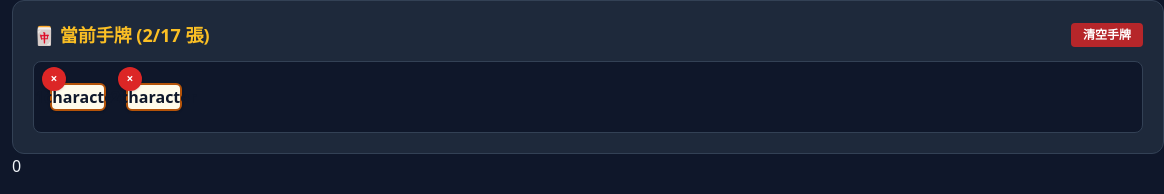
Test: HandRack UI › removing a selected tile clears selection
The width and height of the screenshot is (1164, 194).
Click the button titled "選取".
click(78, 97)  # box [50,83,106,111]
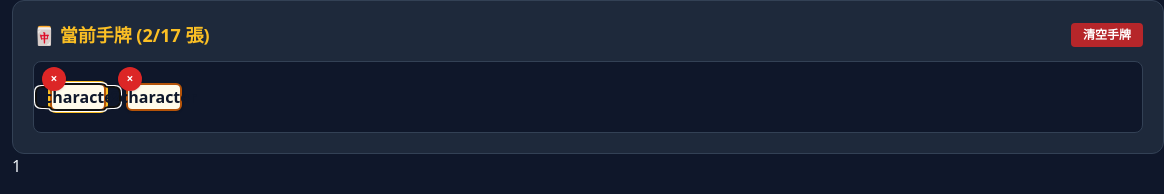
Check: the text with test id "selection-count" reads "1", box [12,155,21,177]
Click the 1st button "×".
click(54, 79)  # box [42,67,66,91]
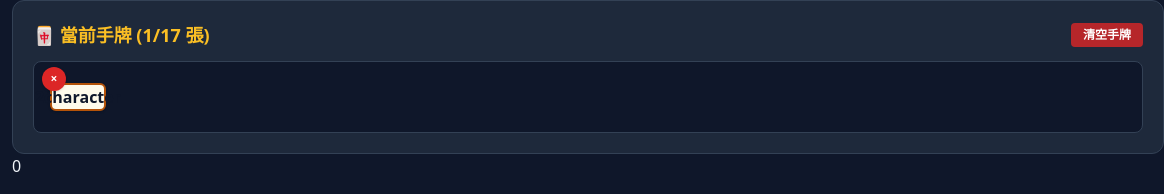
Check: the text with test id "selection-count" reads "0", box [12,155,21,177]
